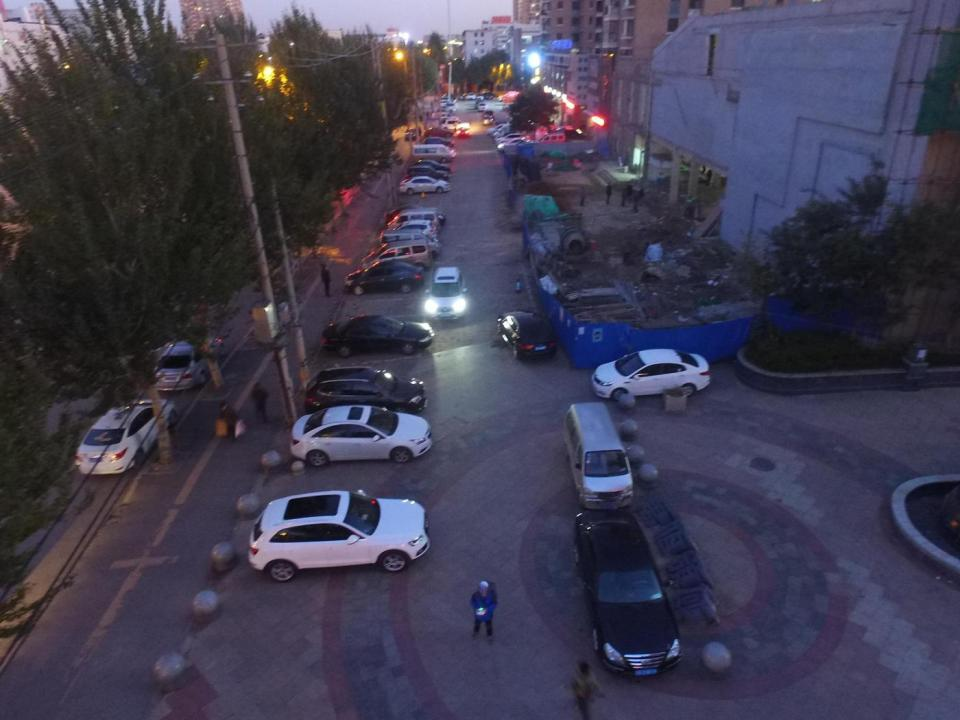car: (573, 507, 683, 681), (246, 490, 437, 583), (281, 405, 431, 471), (79, 386, 177, 471), (591, 344, 710, 400), (320, 315, 434, 358), (491, 302, 560, 370), (151, 335, 219, 396), (419, 262, 470, 322), (343, 264, 425, 298), (380, 201, 446, 223), (398, 175, 452, 195), (392, 221, 443, 238), (411, 158, 452, 175), (408, 165, 450, 179), (484, 124, 519, 137), (424, 126, 456, 140), (497, 139, 532, 151), (496, 132, 526, 146), (494, 125, 524, 138), (426, 135, 454, 148), (403, 125, 423, 140), (452, 122, 472, 137), (483, 109, 496, 123), (472, 95, 486, 105), (477, 102, 488, 110)
van: (562, 399, 638, 512), (360, 241, 433, 270), (382, 230, 443, 255), (388, 207, 442, 229), (413, 145, 456, 161), (540, 132, 571, 144)
